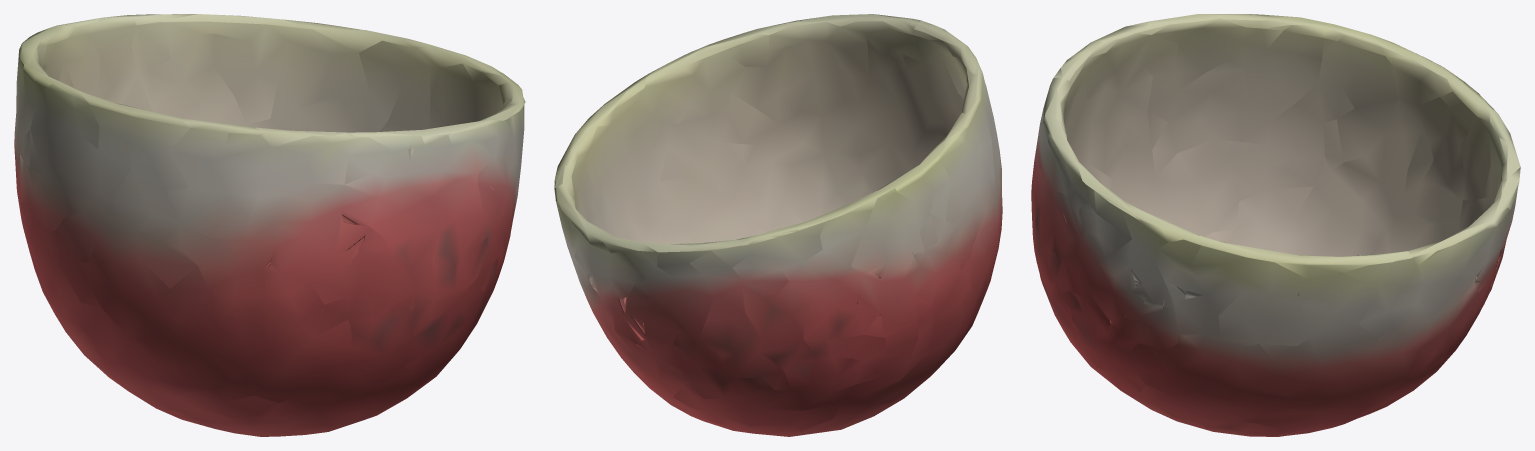
Rendered from 0000_mask_001_toy_watermelon_slice.glb.
The picture shows the model from 3 angles, left to right: view 1: azimuth 30°, elevation 25°; view 2: azimuth 150°, elevation 25°; view 3: azimuth 270°, elevation 25°; orthographic projection. The views are drawn at different scales.
Parts seen in each view (by area): view 1: mask_001_object; view 2: mask_001_object; view 3: mask_001_object.
Boxes of the visible parts, <box> form: mask_001_object: <box>14,14,525,436</box>; mask_001_object: <box>554,14,1002,436</box>; mask_001_object: <box>1031,14,1520,436</box>.
Size of the model in its own units: 0.1439 by 0.1192 by 0.1591.
